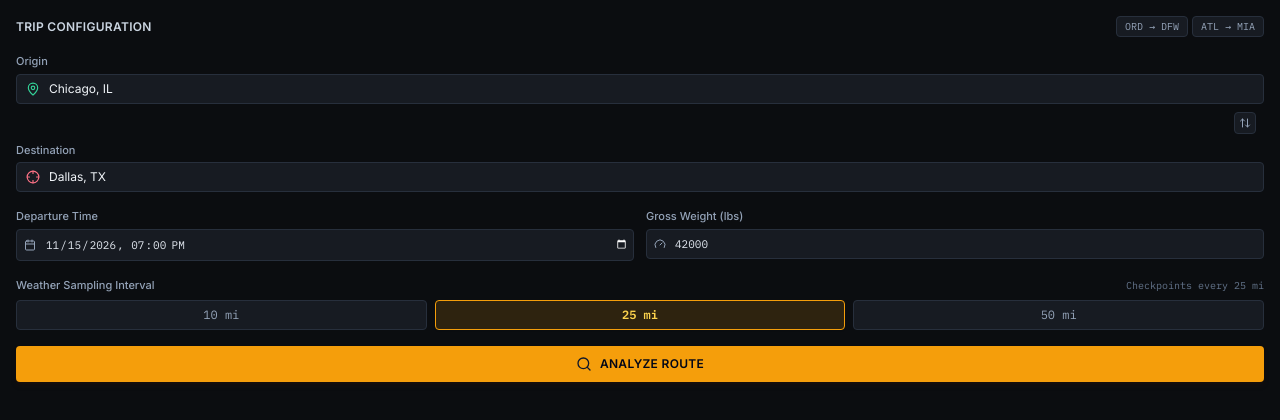
Test: TripForm › validates identical origin and destination
Replace the text in the field labelled "Destination" with "Chicago, IL" at (640,177), box [16, 162, 1264, 192]
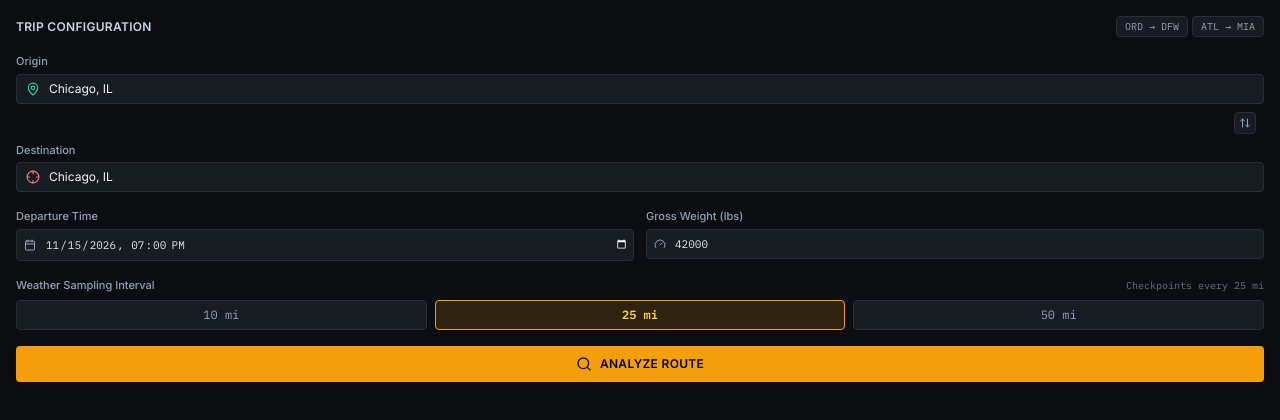
Click the button "ANALYZE ROUTE".
click(640, 364)  # box [16, 346, 1264, 382]
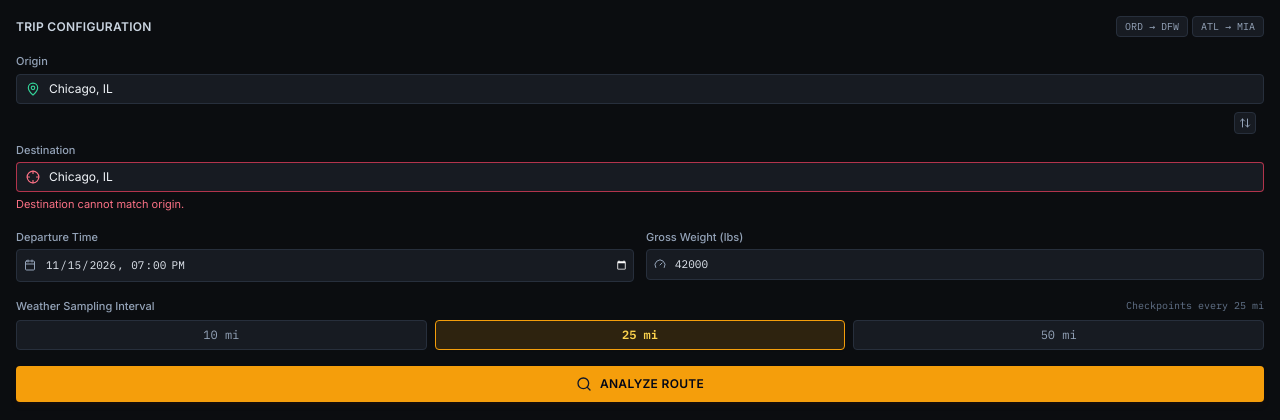
expect the text "Destination cannot match origin." is shown: met, box [16, 197, 184, 211]
